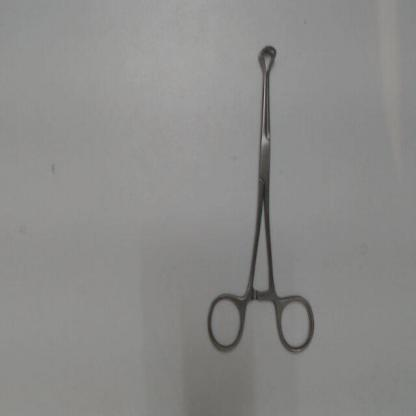Babcock Tissue Forceps: (206, 38, 320, 358)
